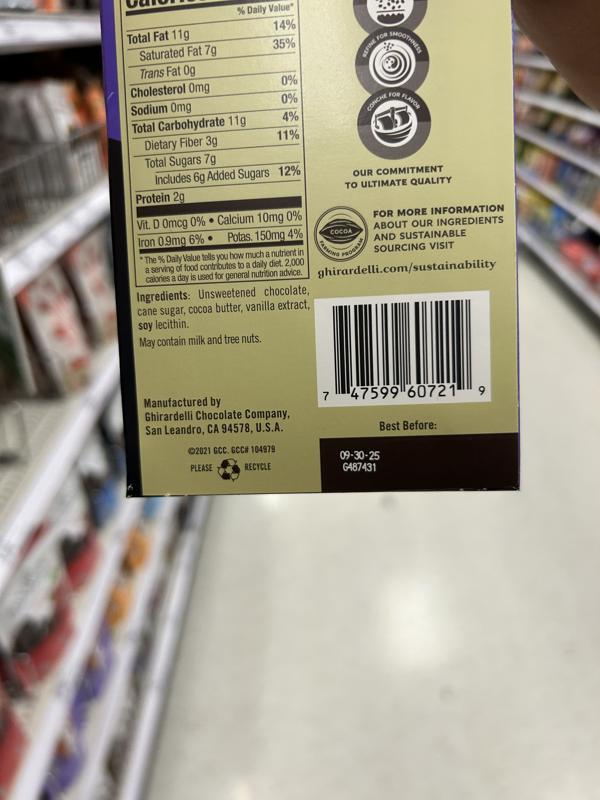ingredients: (134, 284, 312, 333)
